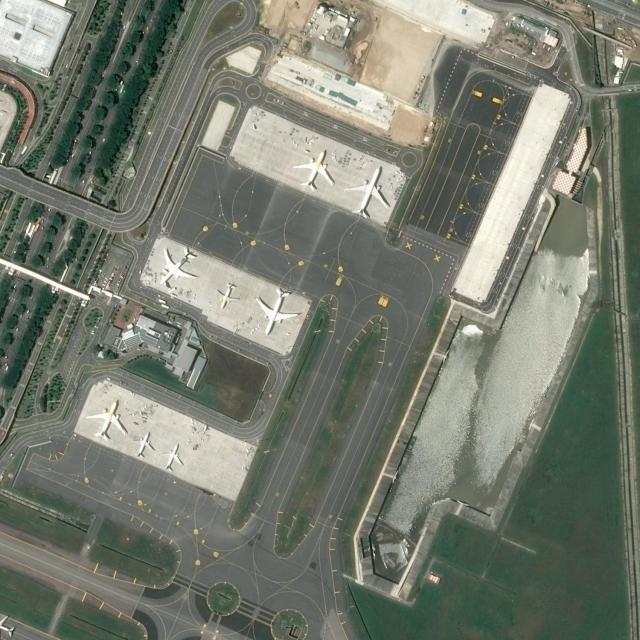Aircraft: (345, 167, 392, 221), (258, 289, 300, 337), (86, 399, 128, 445), (158, 247, 200, 291), (294, 149, 336, 193), (215, 282, 240, 312), (163, 443, 185, 475), (135, 432, 155, 462), (0, 614, 16, 640)
